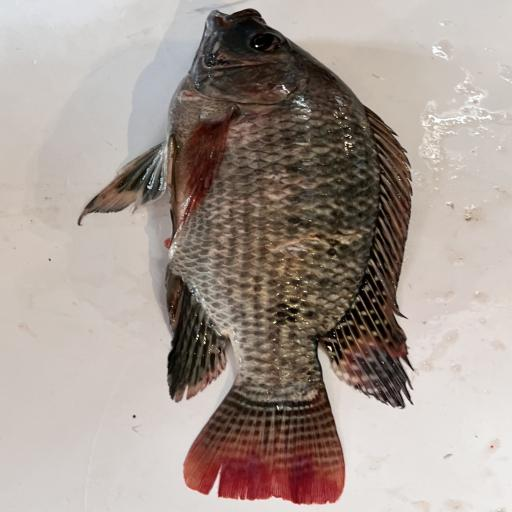Tilapia: (77, 8, 415, 507)
